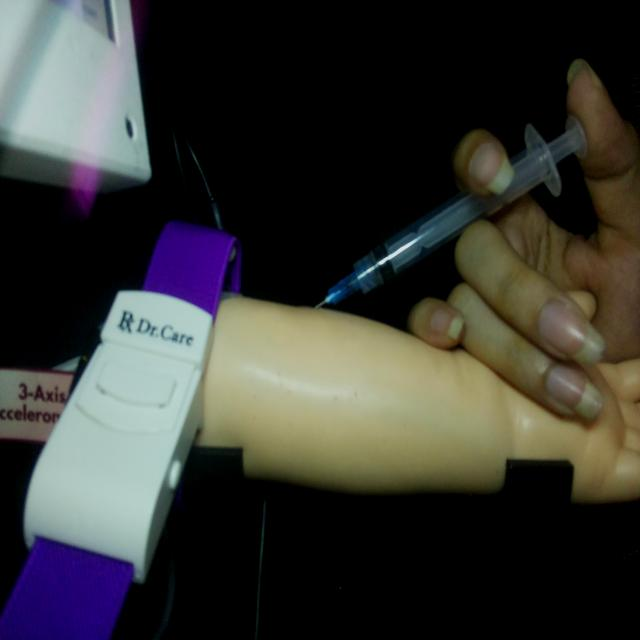22 degrees: (313, 113, 588, 311)
